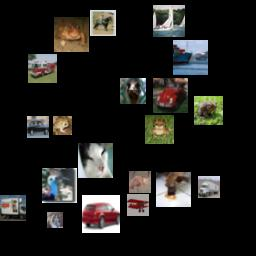airplane: (127, 194, 149, 216)
automobile: (82, 195, 120, 233), (153, 78, 188, 113), (27, 116, 49, 138)
bird: (42, 168, 77, 203), (120, 78, 146, 104), (129, 171, 151, 193)
cat: (78, 143, 113, 178), (47, 212, 63, 228)
dog: (156, 172, 191, 207)
frog: (54, 17, 89, 52), (194, 96, 223, 125), (145, 115, 174, 144), (53, 116, 72, 135)
ship: (173, 40, 208, 75), (153, 5, 185, 37)
truck: (28, 54, 57, 83), (0, 195, 26, 221), (198, 176, 220, 198)
